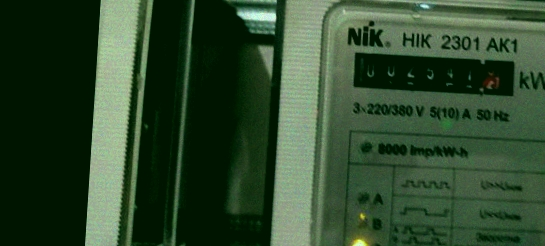0: (362, 56, 377, 78), (383, 56, 397, 77)
1: (462, 62, 474, 82)
2: (403, 58, 417, 79)
4: (443, 59, 457, 81)
5: (422, 58, 436, 81)
6: (484, 75, 496, 91)
screen: (341, 40, 526, 105)
